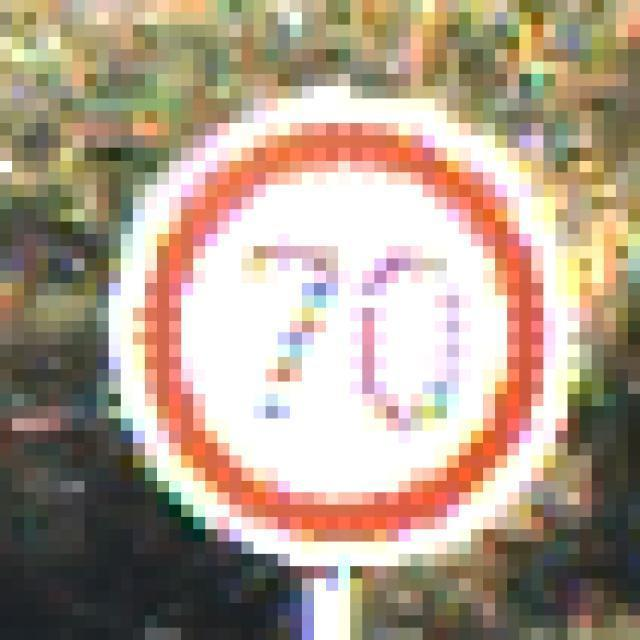Ograniczenie predkosci do 70: (155, 130, 533, 540)
